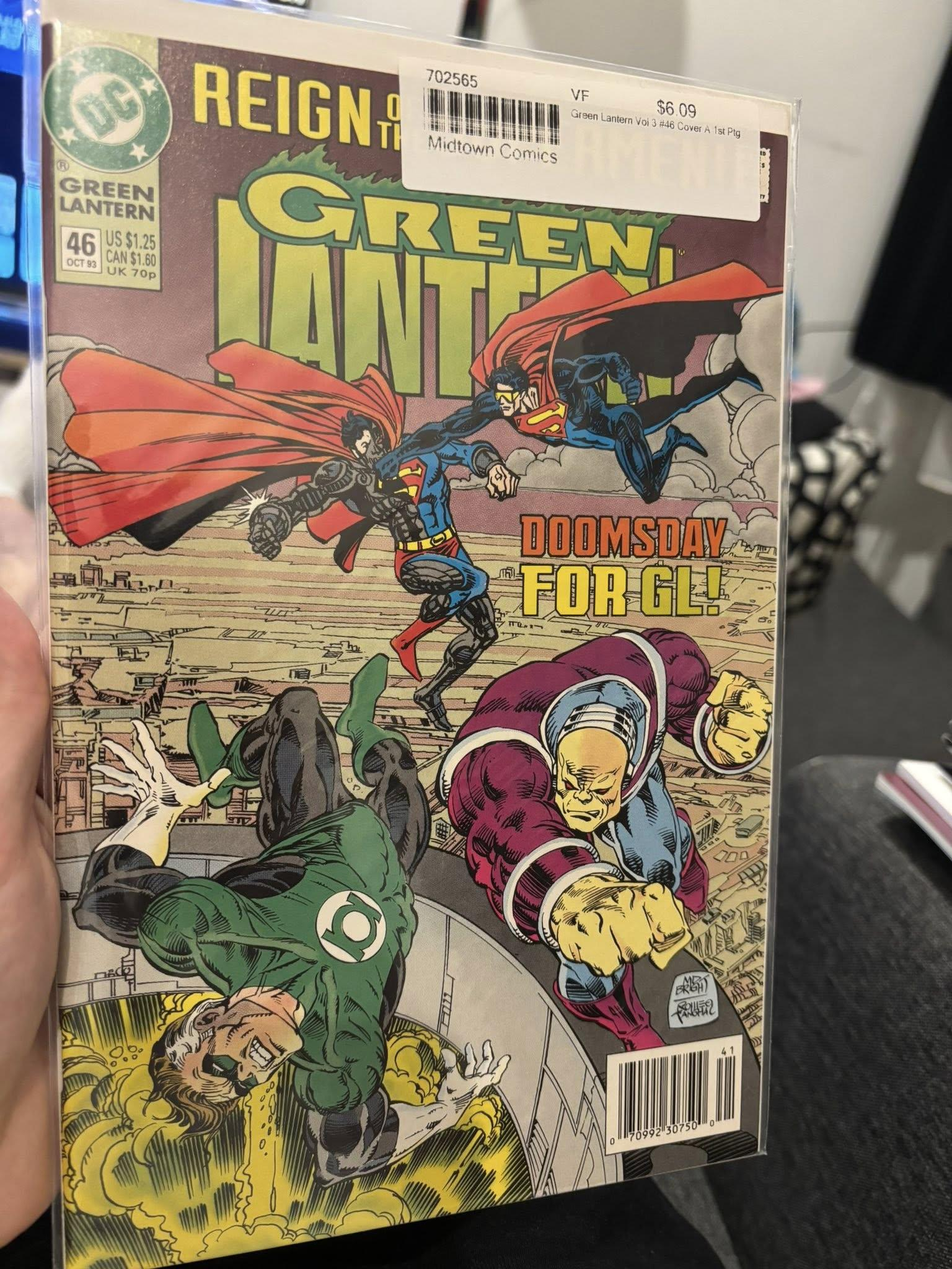comic: (39, 0, 791, 1268)
